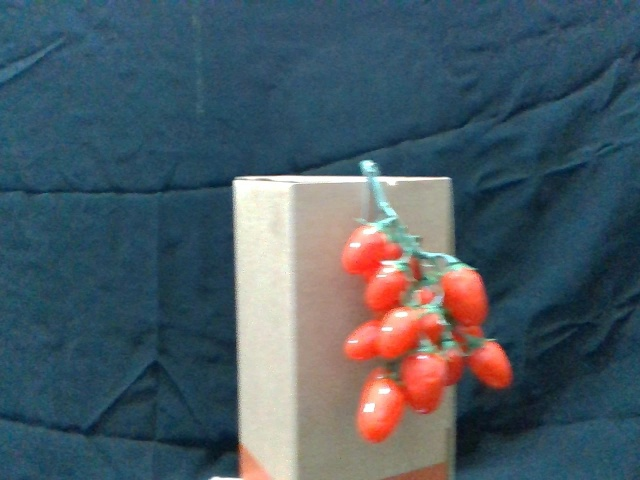tomato: (439, 259, 490, 325), (359, 373, 403, 445), (403, 347, 447, 412), (467, 333, 513, 390), (378, 306, 422, 362), (342, 223, 387, 274), (364, 262, 411, 310), (342, 316, 382, 360)
